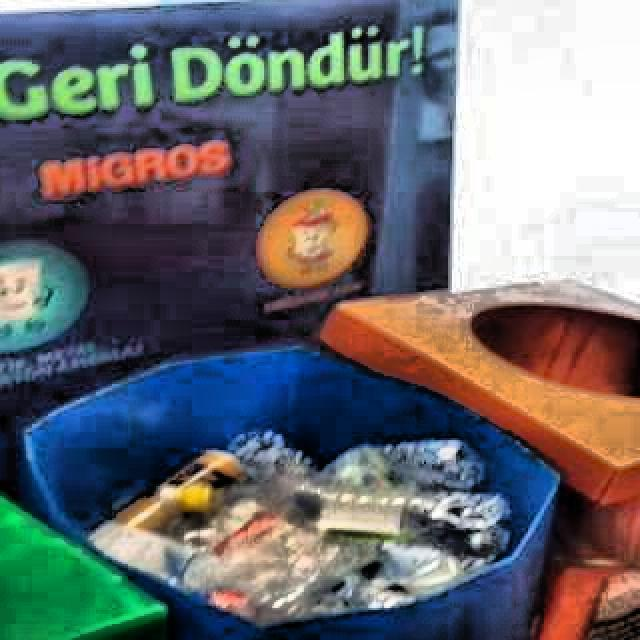metal: (163, 453, 243, 488), (115, 489, 179, 531)
